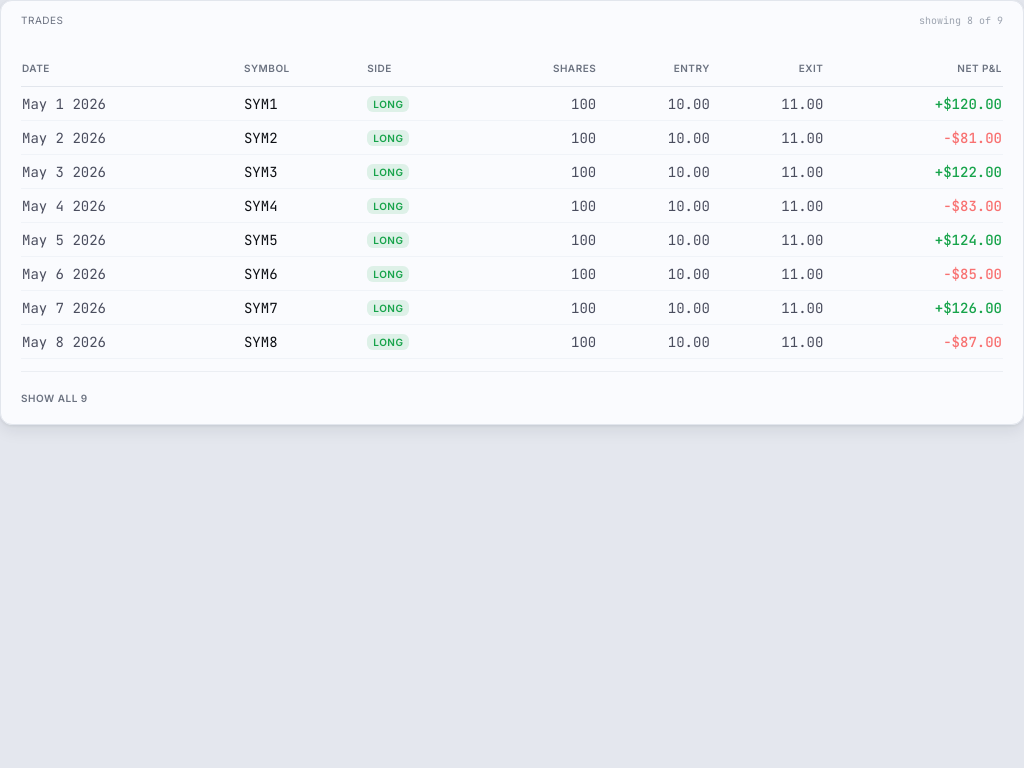
Test: PM5 FREEZE ON OPEN: the list does not move under the modal › closing refreshes the page behind exactly once
Click the button "May 2 2026 SYM2 long 100 10.00 11.00 -$81.00" at (64, 138), box x1=21 y1=120 x2=1003 y2=154
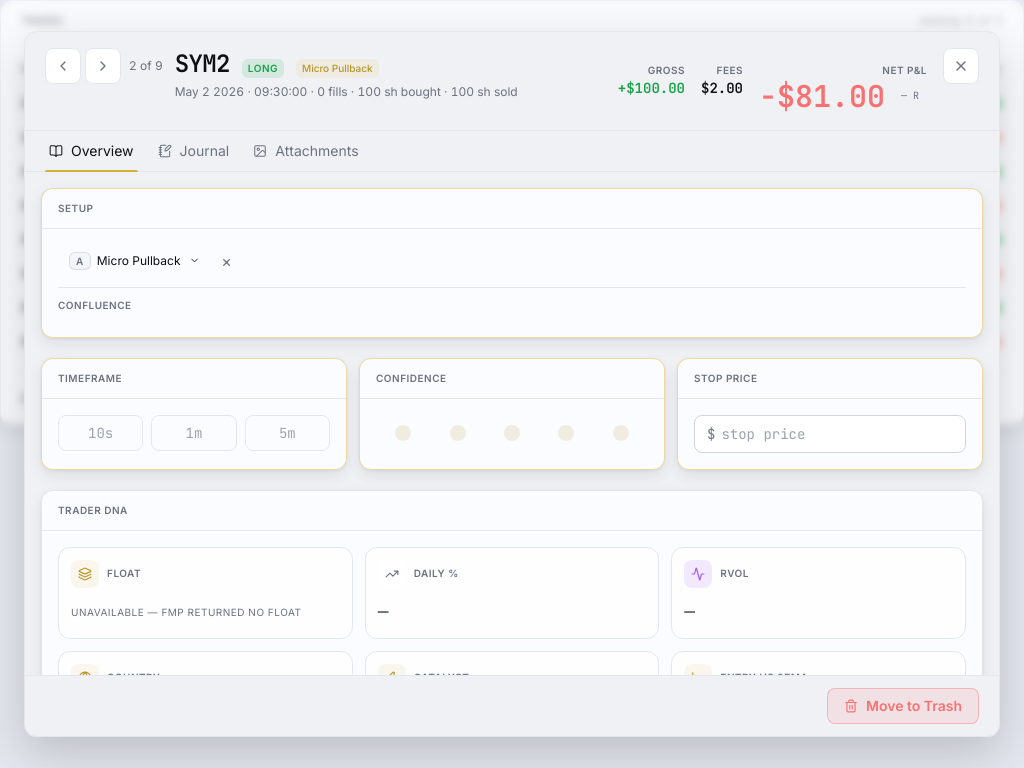
Click the button named "Close" at (961, 66), box x1=943 y1=48 x2=979 y2=84
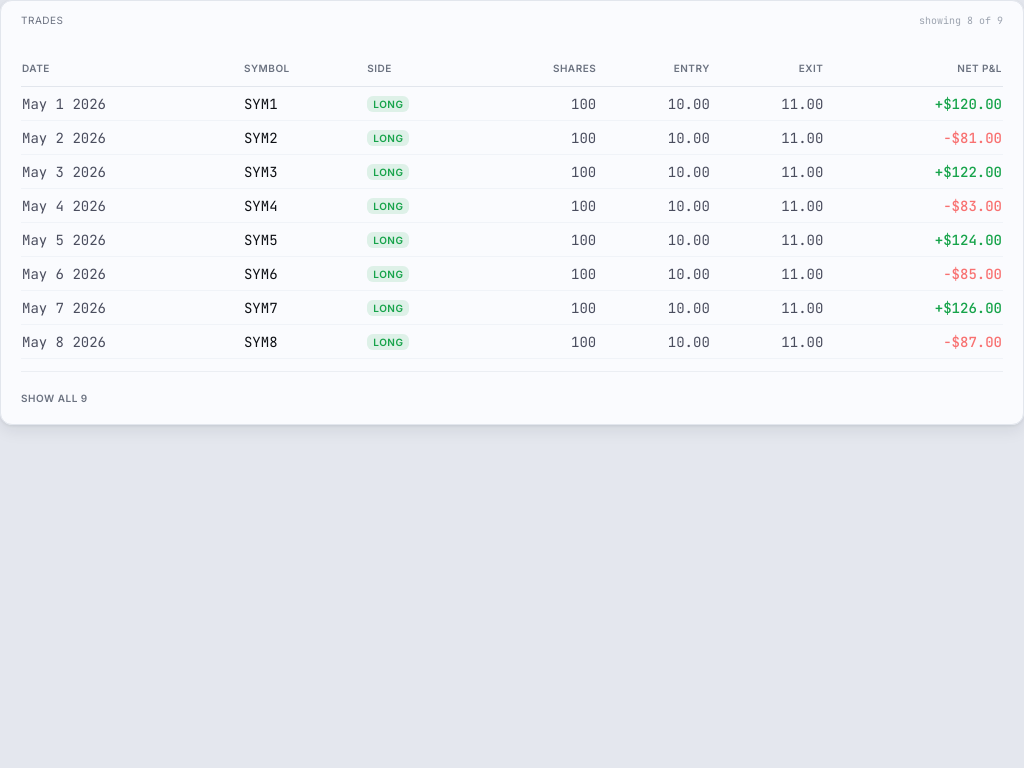
expect the heading with id "trade-detail-title" is gone: met
